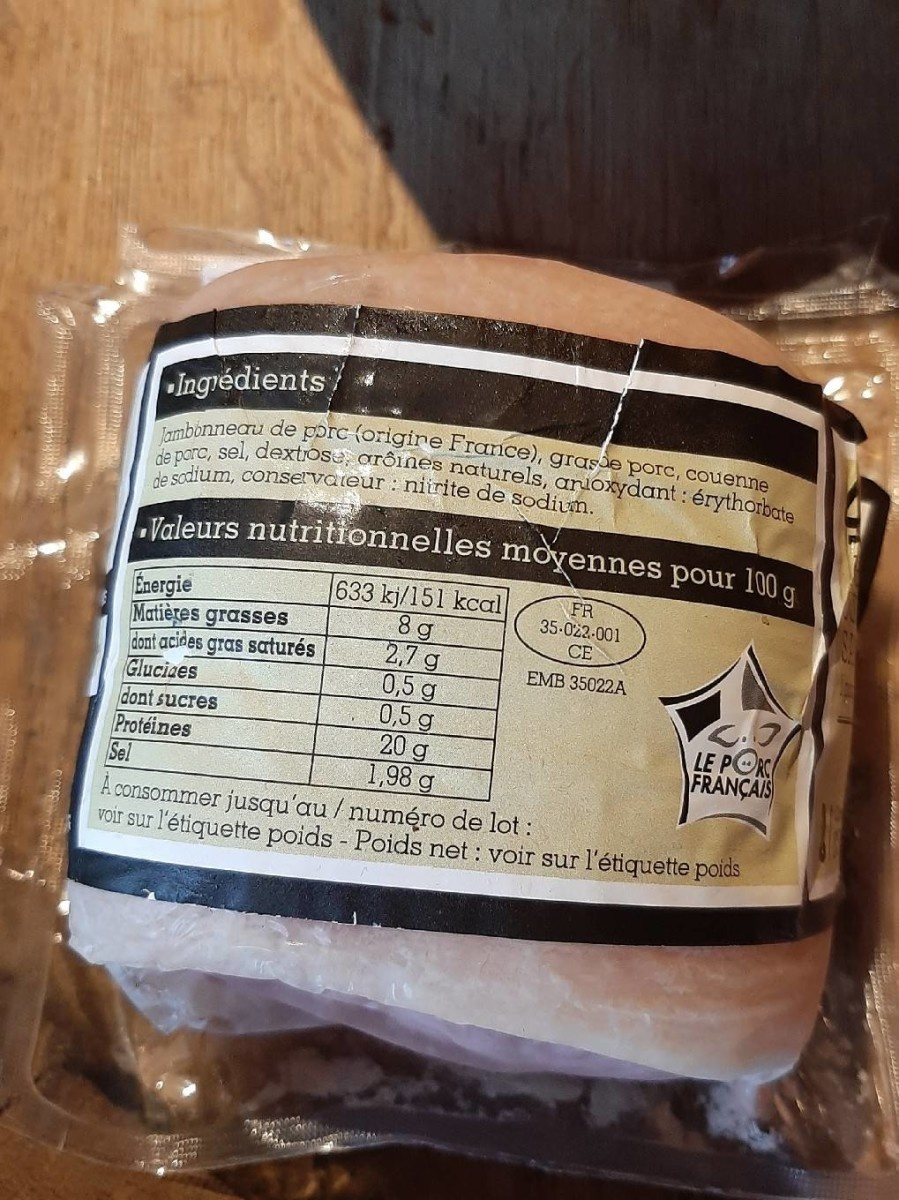column: (114, 572, 313, 780), (336, 577, 501, 795)
table: (108, 568, 509, 802)
